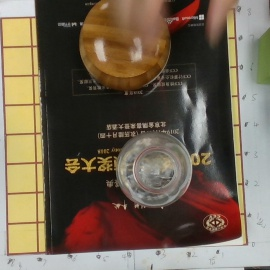bottle: (115, 126, 192, 206)
chess: (77, 3, 173, 91)
